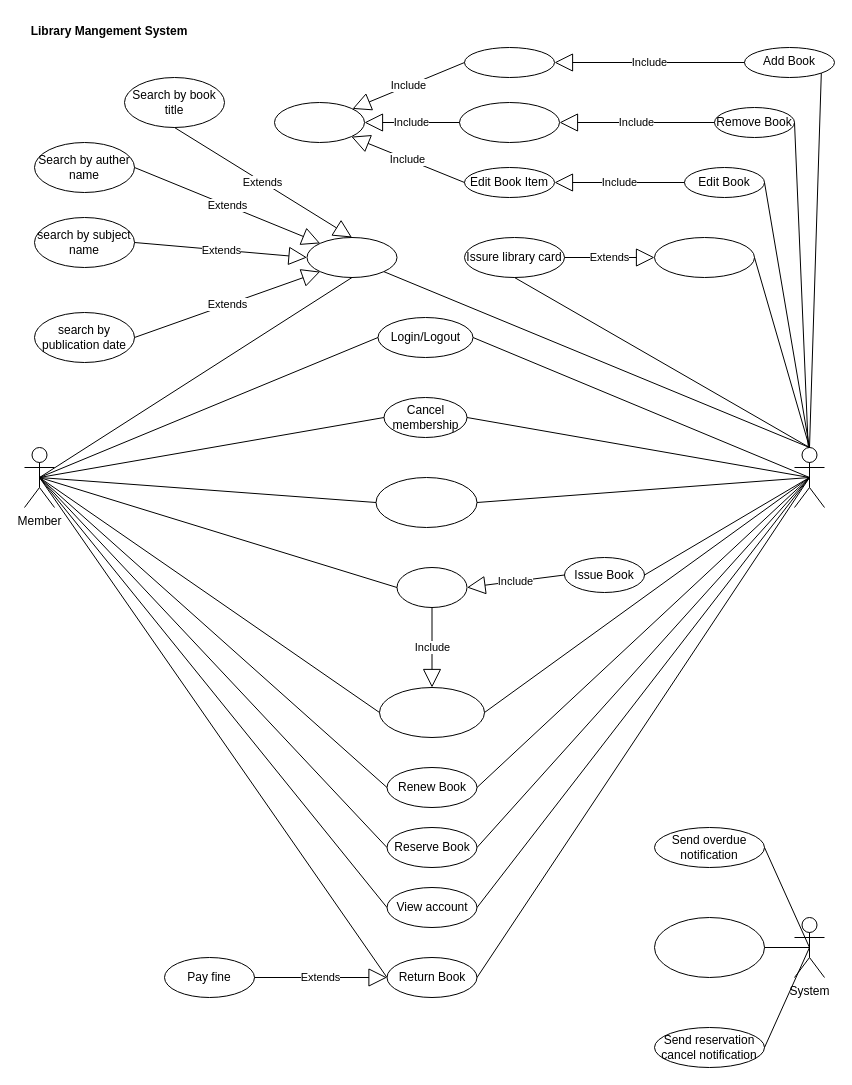
Some shapes in this 852 by 1085 pixel diagram are drawn without their labels. The centre of each missing label's shape, as x and y in pixels:
Add Book Item: (509,62)
Checkout book: (431,587)
Librarian: (809,477)
Register new account: (704,257)
Register/Update account: (426,502)
Remove Book Item: (509,122)
Remove reservation: (431,712)
Search catalog: (351,257)
Send reservation available notification: (709,947)
Update catalog: (319,122)
